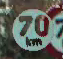Speed limit: (3, 0, 57, 53)
